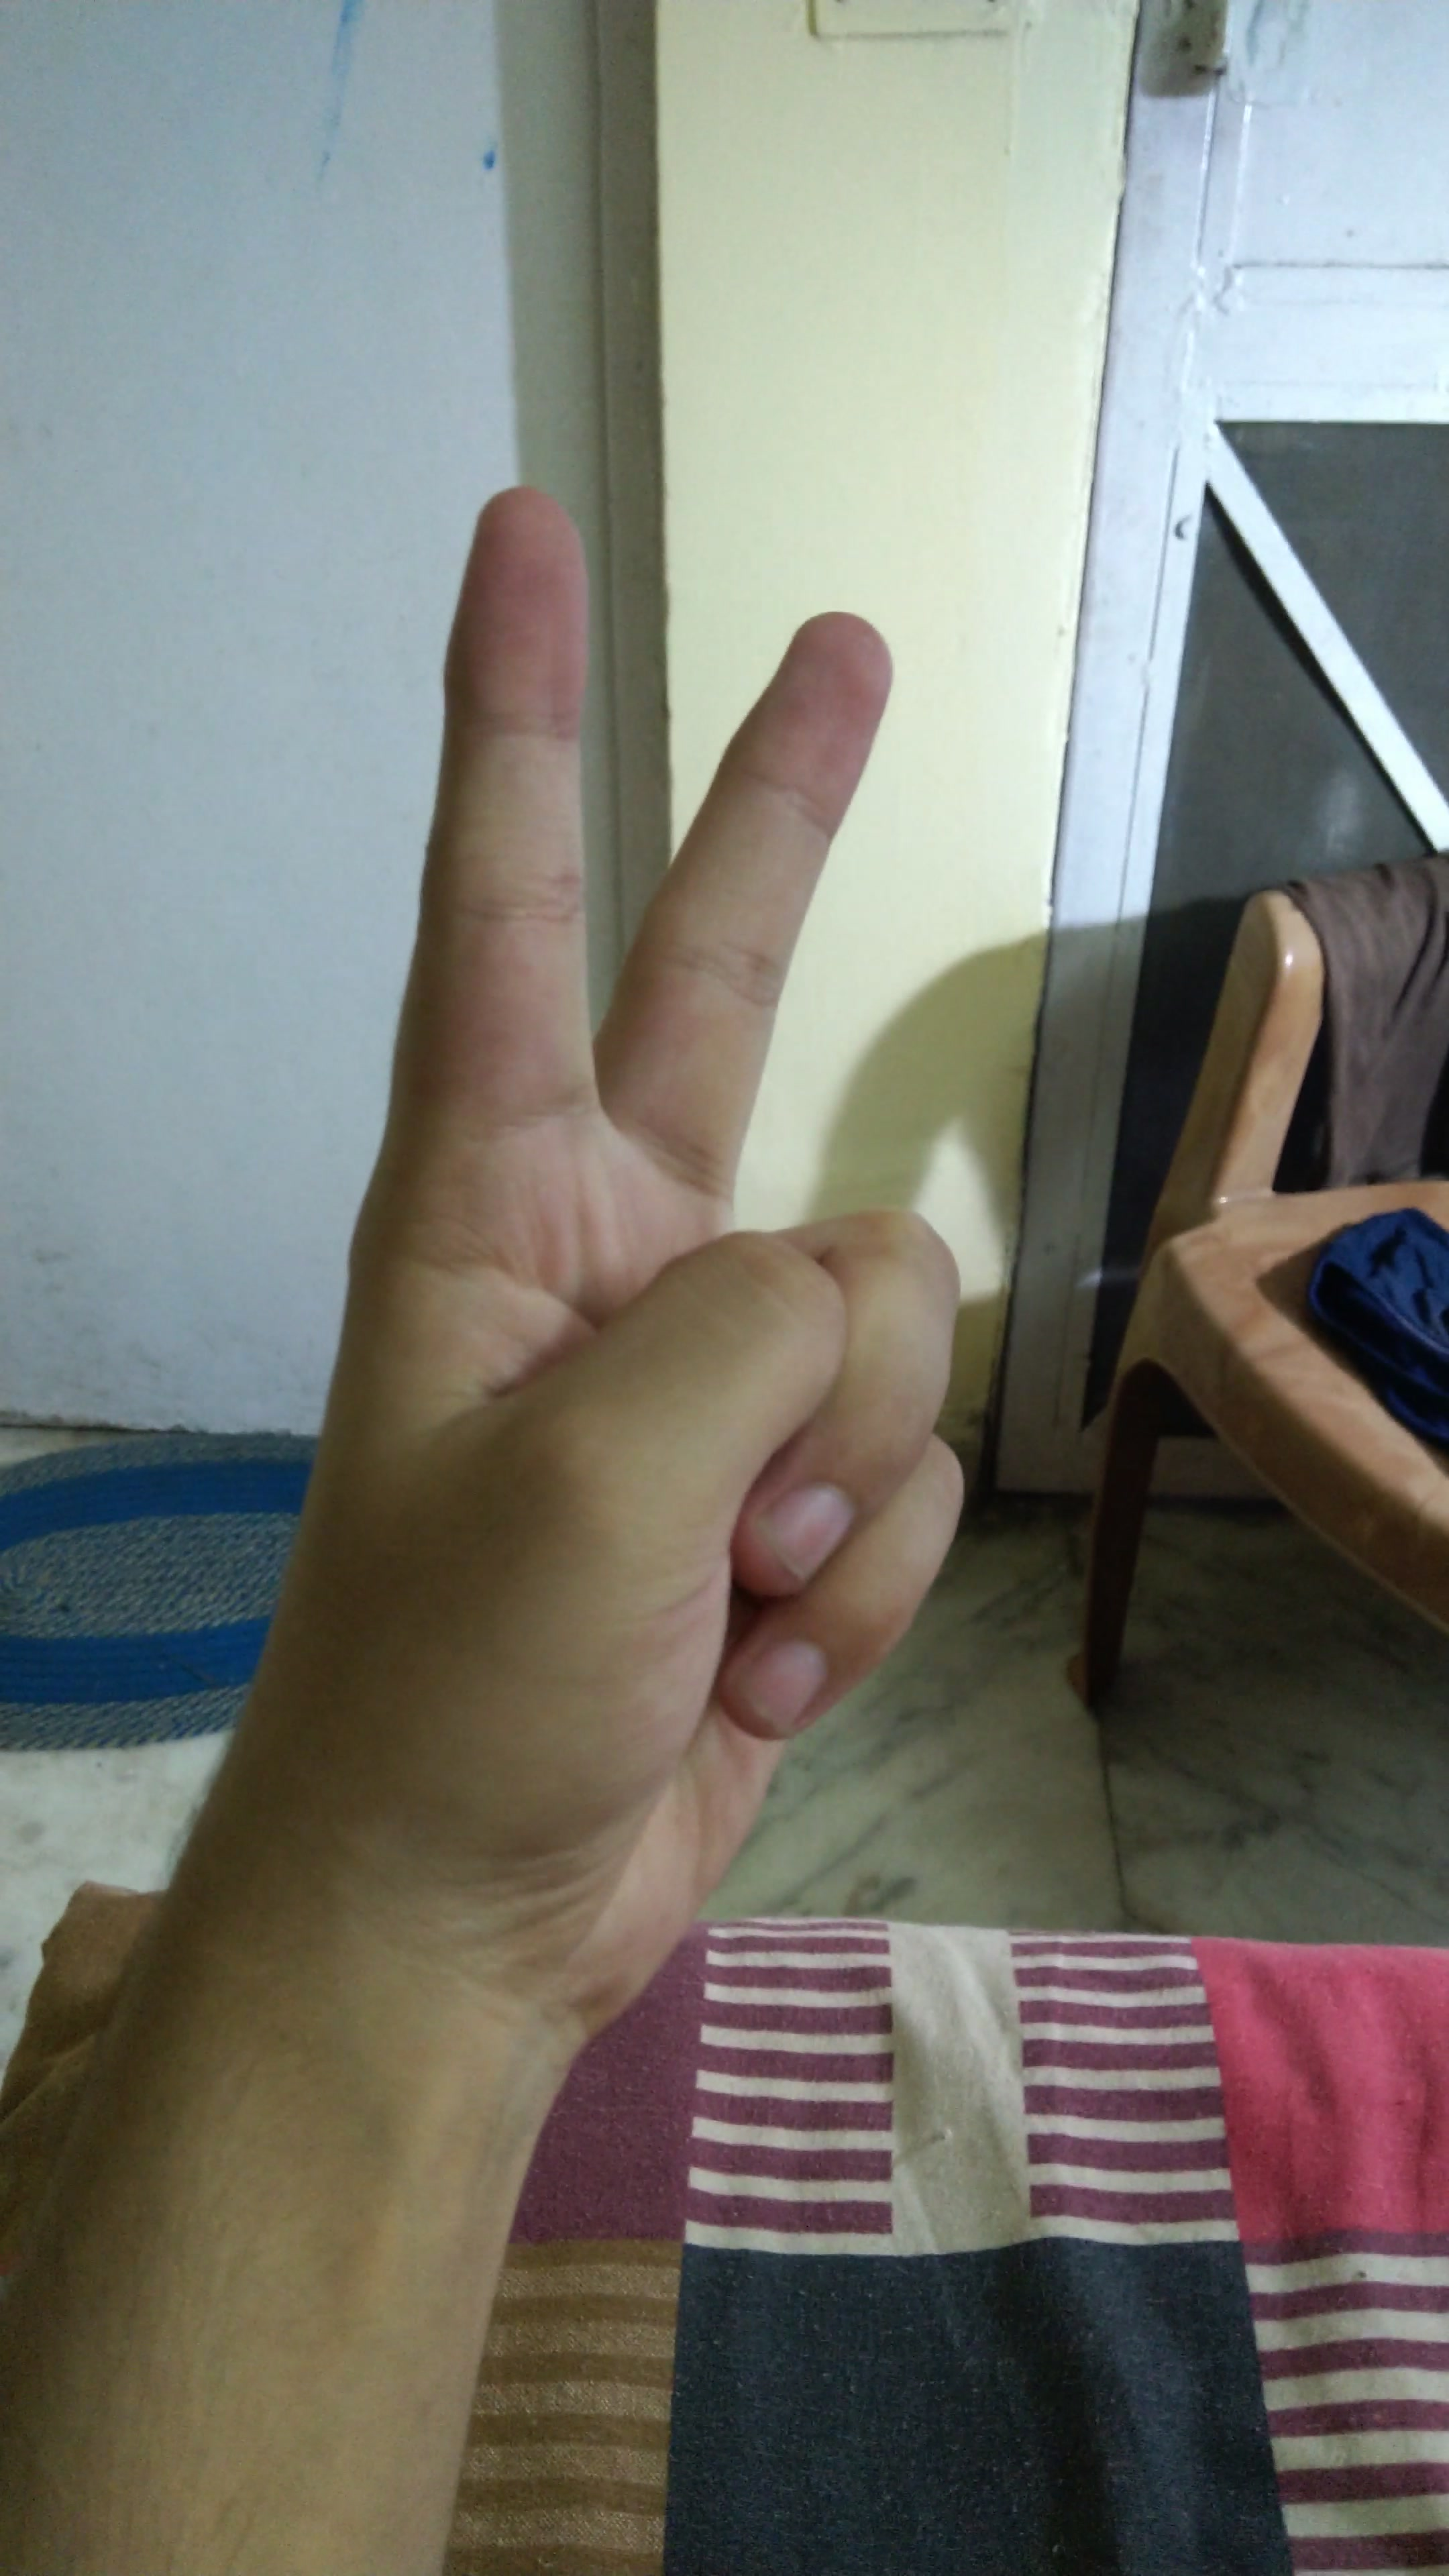hand: (145, 451, 1053, 2068)
